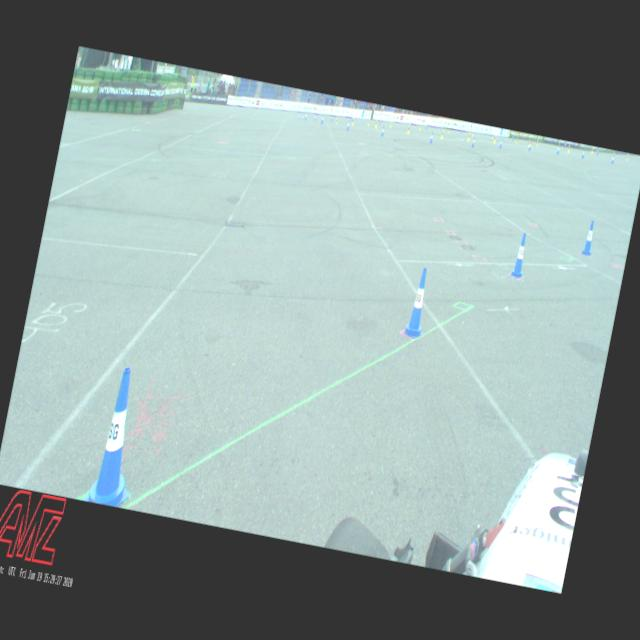blue_cone: (82, 362, 152, 508), (402, 266, 436, 340), (509, 232, 531, 280), (580, 220, 598, 256)
